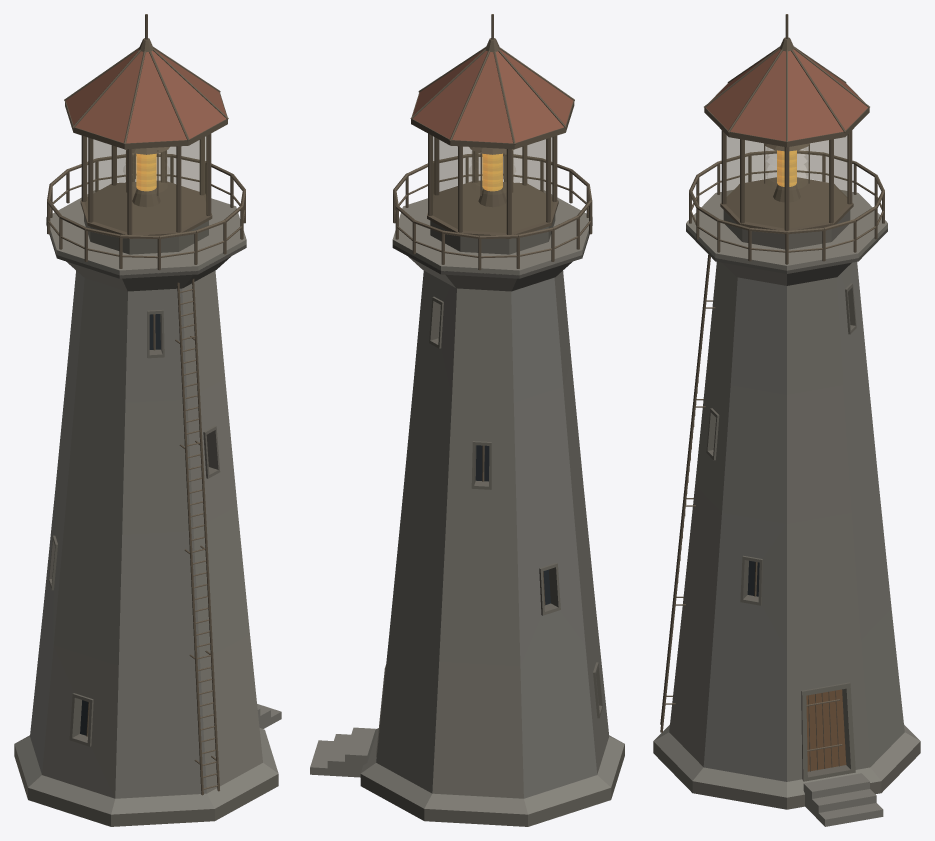
Rendered from lighthouse.glb.
The picture shows the model from 3 angles, left to right: view 1: azimuth 30°, elevation 25°; view 2: azimuth 150°, elevation 25°; view 3: azimuth 270°, elevation 25°; orthographic projection. The views are drawn at different scales.
Visible parts, largest first — view 1: Opaque_Limestone 1, Opaque_Limestone 0, Opaque_Limestone 2, Opaque_Dark forged bronze, Opaque_Oxidised terracotta roof, Opaque_Weathered sandstone edges, Opaque_Limestone 3, Lantern glazed panel 5, Lantern glazed panel 4, Opaque_Deep weathered gallery corbel stone, Lantern glazed panel 6, Lantern glazed panel 0 (+3 smaller); view 2: Opaque_Limestone 2, Opaque_Limestone 1, Opaque_Limestone 3, Opaque_Dark forged bronze, Opaque_Oxidised terracotta roof, Opaque_Weathered sandstone edges, Opaque_Limestone 0, Lantern glazed panel 2, Lantern glazed panel 3, Opaque_Deep weathered gallery corbel stone, Lantern glazed panel 1, Lantern glazed panel 7 (+3 smaller); view 3: Opaque_Limestone 3, Opaque_Limestone 0, Opaque_Limestone 1, Opaque_Limestone 2, Opaque_Dark forged bronze, Opaque_Oxidised terracotta roof, Opaque_Weathered sandstone edges, Lantern glazed panel 0, Lantern glazed panel 7, Opaque_Oak door boards, Opaque_Deep weathered gallery corbel stone, Lantern glazed panel 1 (+6 smaller).
Boxes of the visible parts, box(x1,y1,x2,y2) form: Opaque_Limestone 1: box(14, 288, 281, 814); Opaque_Limestone 0: box(42, 277, 127, 798); Opaque_Limestone 2: box(46, 190, 262, 793); Opaque_Dark forged bronze: box(47, 14, 245, 795); Opaque_Oxidised terracotta roof: box(66, 49, 226, 143); Opaque_Weathered sandstone edges: box(14, 215, 278, 826); Opaque_Limestone 3: box(30, 270, 84, 774); Lantern glazed panel 5: box(132, 147, 176, 232); Lantern glazed panel 4: box(92, 139, 126, 231); Opaque_Deep weathered gallery corbel stone: box(46, 222, 246, 291); Lantern glazed panel 6: box(181, 136, 207, 228); Lantern glazed panel 0: box(167, 141, 198, 190); Opaque_Limestone 2: box(392, 190, 592, 798); Opaque_Limestone 1: box(310, 270, 624, 814); Opaque_Limestone 3: box(511, 277, 597, 798); Opaque_Dark forged bronze: box(393, 14, 592, 605); Opaque_Oxidised terracotta roof: box(412, 49, 573, 143); Opaque_Weathered sandstone edges: box(360, 215, 624, 826); Opaque_Limestone 0: box(554, 271, 609, 774); Lantern glazed panel 2: box(462, 147, 506, 232); Lantern glazed panel 3: box(512, 139, 546, 231); Opaque_Deep weathered gallery corbel stone: box(392, 223, 592, 291); Lantern glazed panel 1: box(431, 136, 457, 228); Lantern glazed panel 7: box(440, 141, 471, 190); Opaque_Limestone 3: box(703, 277, 786, 781); Opaque_Limestone 0: box(787, 277, 870, 781); Opaque_Limestone 1: box(653, 262, 920, 826); Opaque_Limestone 2: box(669, 190, 887, 766); Opaque_Dark forged bronze: box(660, 14, 884, 771); Opaque_Oxidised terracotta roof: box(706, 49, 867, 141); Opaque_Weathered sandstone edges: box(653, 210, 920, 809); Lantern glazed panel 0: box(789, 140, 829, 227); Lantern glazed panel 7: box(744, 140, 784, 227); Opaque_Oak door boards: box(806, 689, 846, 771); Opaque_Deep weathered gallery corbel stone: box(686, 228, 887, 285); Lantern glazed panel 1: box(834, 133, 849, 218).
Size of the model in its own units: 9.26 by 24.5 by 8.03.
